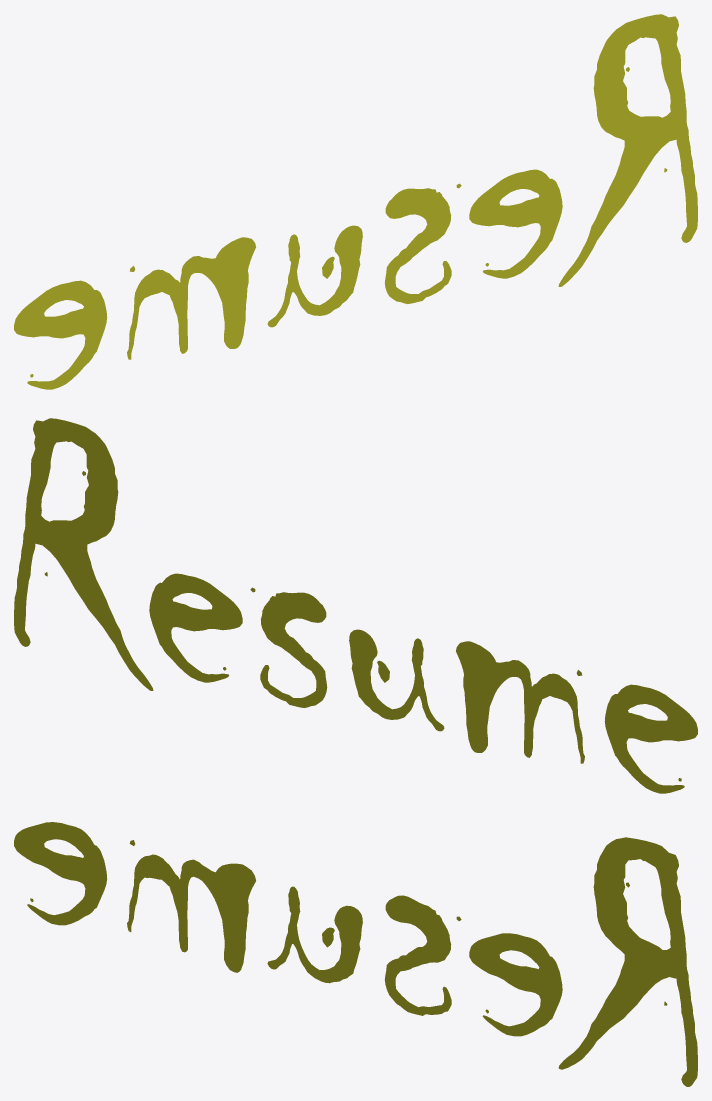
Rendered from resumePauseMenuButtonText.obj.
3 views of the same model, one above another, from view 1: azimuth 30°, elevation 25°; view 2: azimuth 150°, elevation 25°; view 3: azimuth 330°, elevation 25° (orthographic).
Visible parts, largest first — view 1: resumePauseMenuButtonText; view 2: resumePauseMenuButtonText; view 3: resumePauseMenuButtonText.
Part boxes in pixels (box(x1,y1,x2,y2)): resumePauseMenuButtonText: box(14, 14, 697, 389); resumePauseMenuButtonText: box(14, 418, 697, 793); resumePauseMenuButtonText: box(14, 822, 697, 1086).
Size of the model in its own units: 1.83 by 0.6361 by 0.
